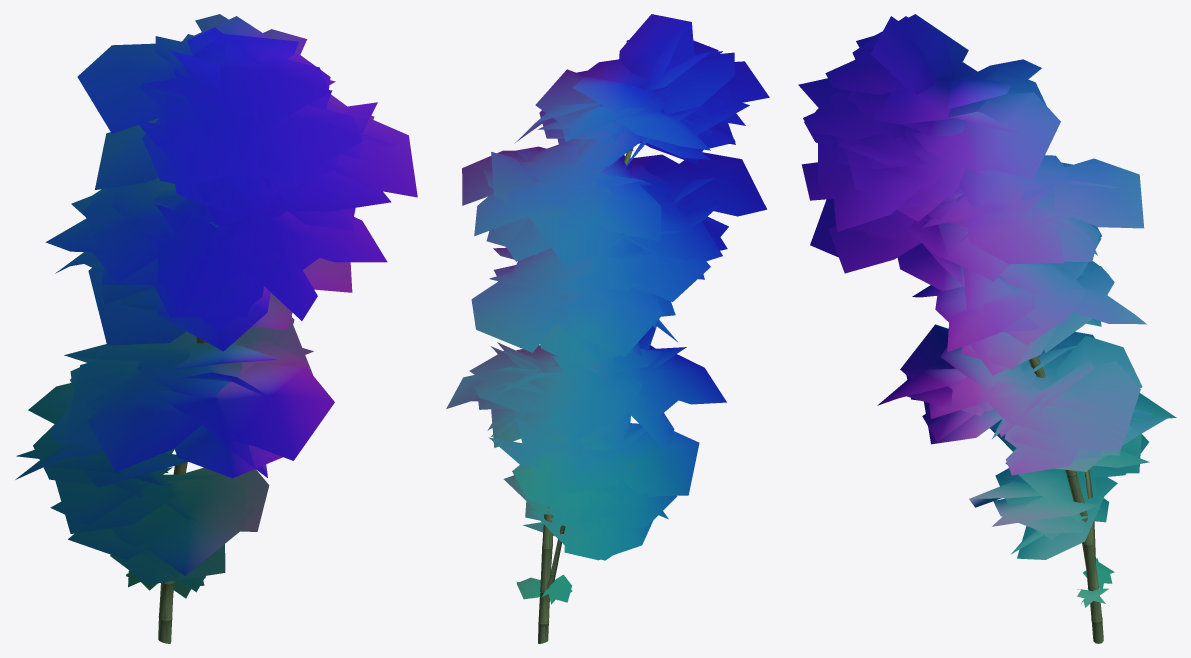
The model's file is SM_EastLands_Bamboo_Medium_02_Trunk.fbx.
The picture shows the model from 3 angles, left to right: view 1: azimuth 30°, elevation 25°; view 2: azimuth 150°, elevation 25°; view 3: azimuth 270°, elevation 25°; orthographic projection. The views are drawn at different scales.
Parts seen in each view (by area): view 1: SM_EastLands_Bamboo_Medium_02_Trunk_LOD0; view 2: SM_EastLands_Bamboo_Medium_02_Trunk_LOD0; view 3: SM_EastLands_Bamboo_Medium_02_Trunk_LOD0.
Boxes of the visible parts, bbox=[...] form: SM_EastLands_Bamboo_Medium_02_Trunk_LOD0: bbox=[15, 14, 417, 643]; SM_EastLands_Bamboo_Medium_02_Trunk_LOD0: bbox=[446, 14, 769, 643]; SM_EastLands_Bamboo_Medium_02_Trunk_LOD0: bbox=[798, 14, 1176, 643].
Bounding box in the file's own units: 598 × 1262 × 724.
